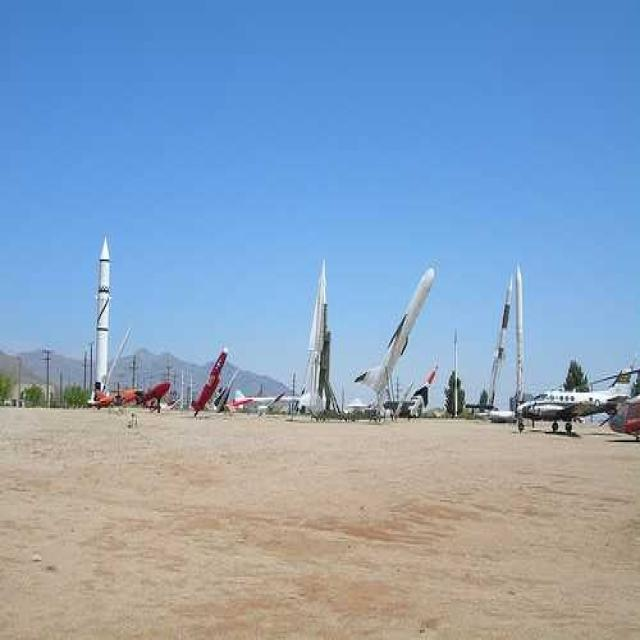missile: (354, 263, 440, 411), (304, 252, 332, 402), (484, 273, 512, 413), (92, 234, 112, 401), (513, 267, 528, 405)
